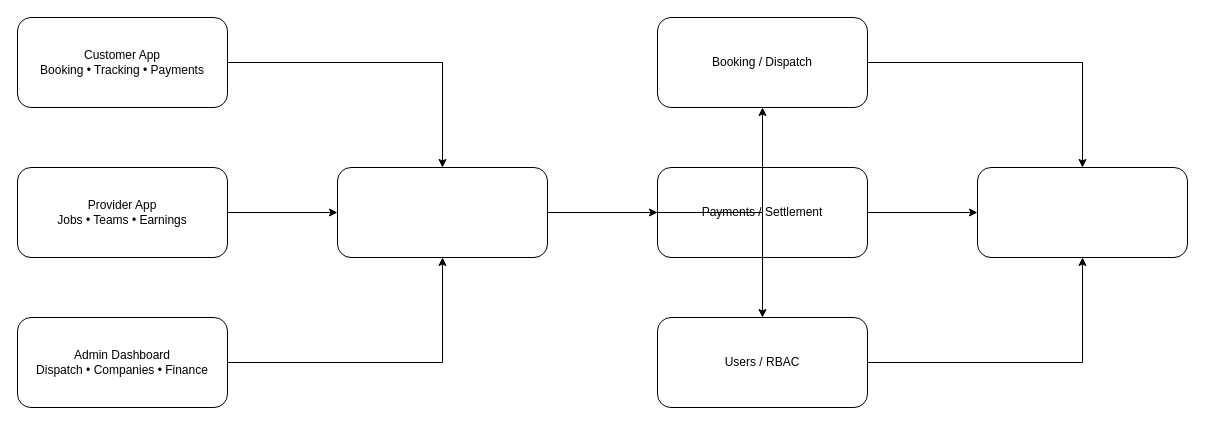
Some shapes in this 1205 by 425 pixel diagram are drawn without their labels. Each missing label, with the box of its shape:
PostgreSQL + Events: (976, 166, 1188, 258)
Shared Backend API: (336, 166, 548, 258)
